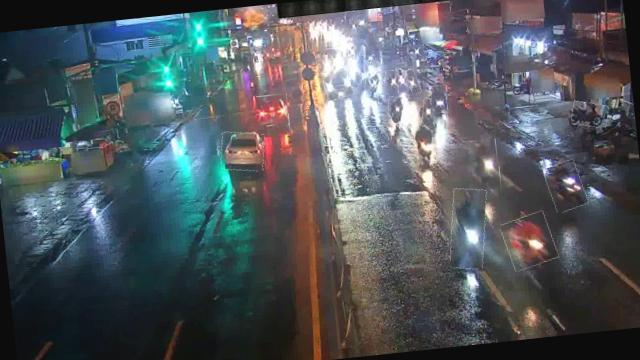Bike: (445, 186, 491, 272), (502, 212, 557, 271), (545, 160, 587, 213), (469, 138, 502, 195), (570, 99, 610, 130), (414, 125, 436, 165), (386, 95, 408, 124), (430, 85, 449, 117), (363, 72, 382, 100), (421, 97, 438, 127), (384, 70, 400, 94), (406, 68, 420, 94), (396, 65, 408, 89)
Car: (218, 130, 266, 174), (254, 94, 290, 135), (322, 67, 352, 100)
